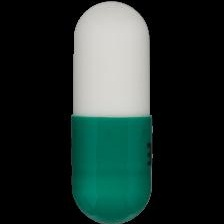54868-2835: (0, 0, 224, 224)
